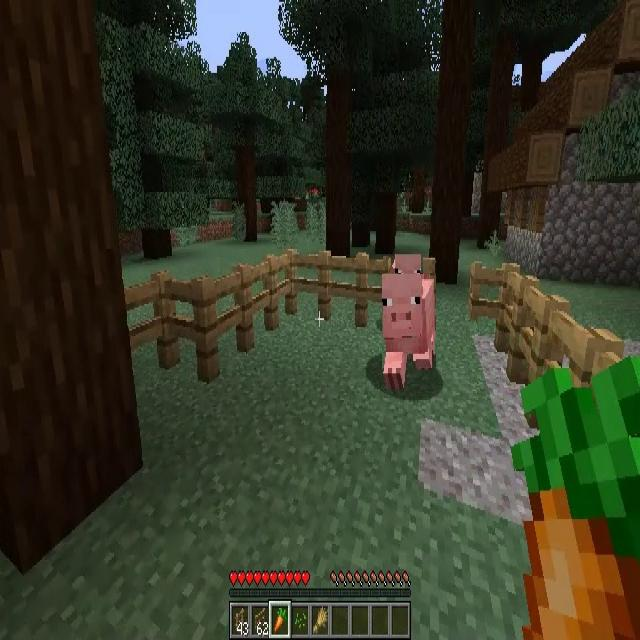pig: (382, 273, 436, 392), (391, 254, 421, 279)
